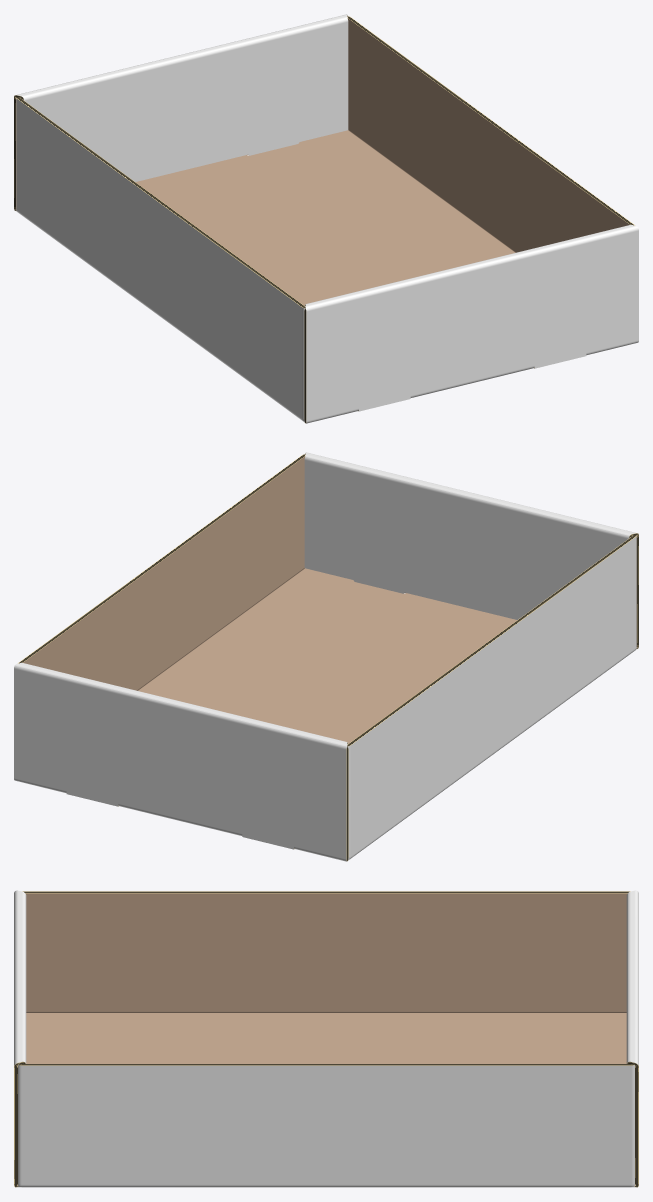
File: Troquel1L0024.gltf
The picture shows the model from 3 angles, top to bottom: view 1: azimuth 30°, elevation 25°; view 2: azimuth 150°, elevation 25°; view 3: azimuth 270°, elevation 25°; orthographic projection. The views are drawn at different scales.
Parts seen in each view (by area): view 1: _1L0024_ARD-node; view 2: _1L0024_ARD-node; view 3: _1L0024_ARD-node.
Part boxes in pixels (bbox=[...]): _1L0024_ARD-node: bbox=[14, 14, 638, 423]; _1L0024_ARD-node: bbox=[14, 452, 638, 861]; _1L0024_ARD-node: bbox=[14, 890, 638, 1187].
Size of the model in its own units: 0.3232 by 0.1086 by 0.4902.
Materials: 3 (1 with a texture image).
